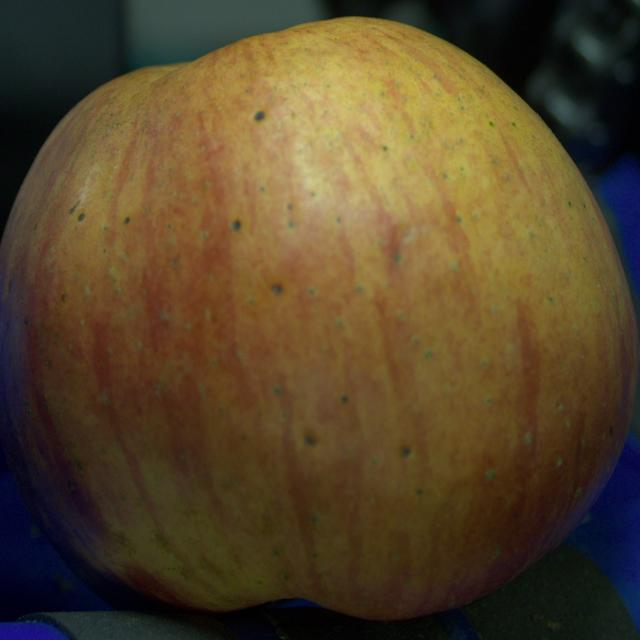apple: (0, 18, 638, 619)
pest: (69, 201, 79, 214), (272, 283, 282, 294), (232, 220, 241, 230), (306, 436, 316, 445), (401, 447, 411, 456), (256, 111, 264, 120), (78, 213, 84, 221), (124, 217, 130, 224)
